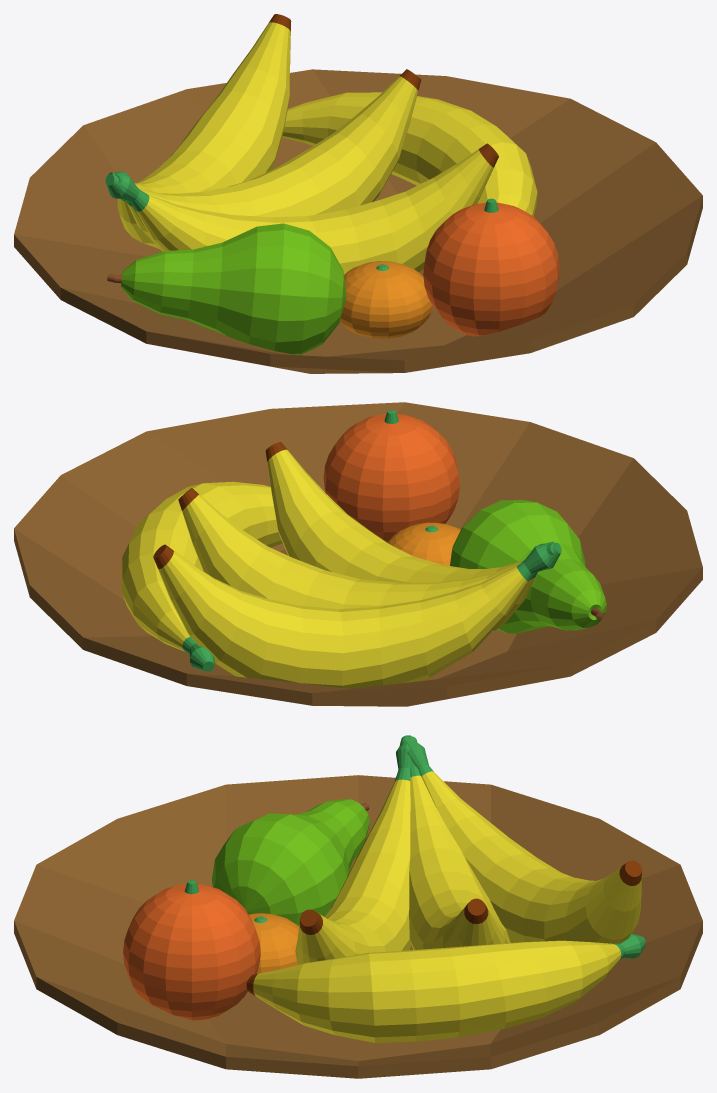
Rendered from Fruit_Bowl.fbx.
The picture shows the model from 3 angles, top to bottom: view 1: azimuth 30°, elevation 25°; view 2: azimuth 150°, elevation 25°; view 3: azimuth 270°, elevation 25°; orthographic projection.
Parts seen in each view (by area): view 1: Bol_Frutas; view 2: Bol_Frutas; view 3: Bol_Frutas.
Part boxes in pixels (bbox=[...]): Bol_Frutas: bbox=[14, 14, 702, 373]; Bol_Frutas: bbox=[14, 402, 702, 706]; Bol_Frutas: bbox=[14, 735, 702, 1078].
Size of the model in its own units: 120 by 32.85 by 120.
